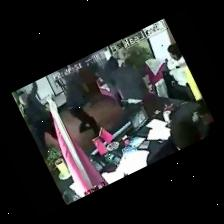person: (17, 82, 57, 157), (64, 73, 99, 136), (99, 52, 123, 109)
